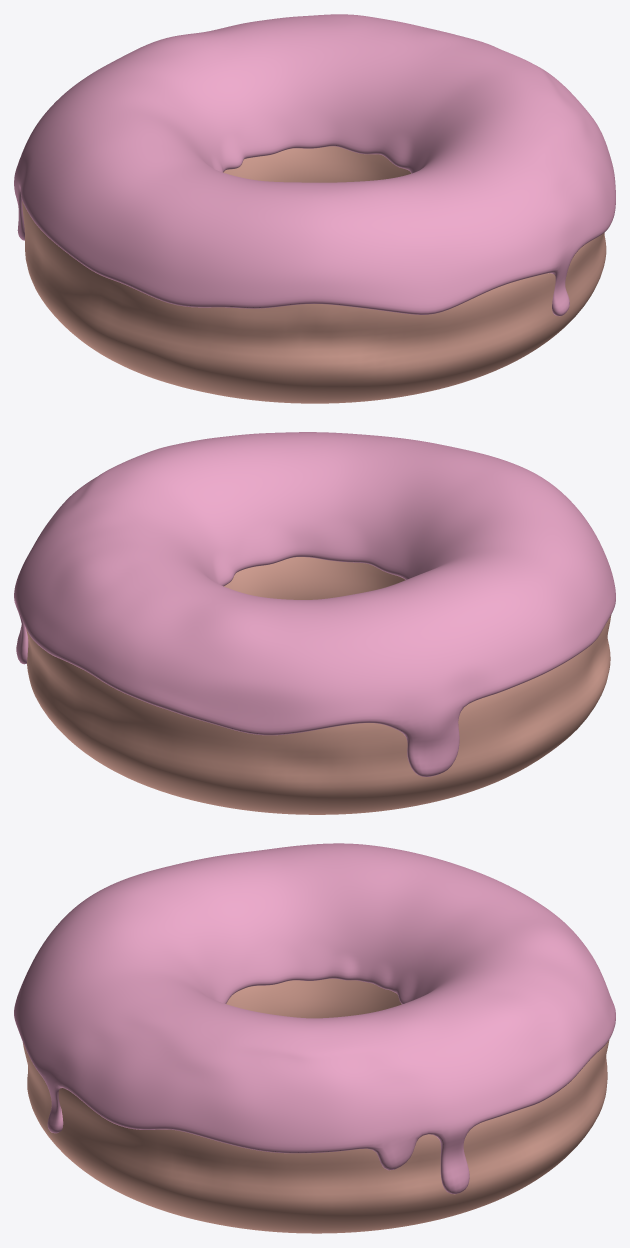
File: crappyDonut 1.fbx
The picture shows the model from 3 angles, top to bottom: view 1: azimuth 30°, elevation 25°; view 2: azimuth 150°, elevation 25°; view 3: azimuth 270°, elevation 25°; orthographic projection.
Visible parts, largest first — view 1: Icing.001; view 2: Icing.001; view 3: Icing.001.
Boxes of the visible parts, <box> form: Icing.001: <box>14,14,615,403</box>; Icing.001: <box>14,432,615,814</box>; Icing.001: <box>14,843,615,1233</box>.
Size of the model in its own units: 22.49 by 8.46 by 22.54.
